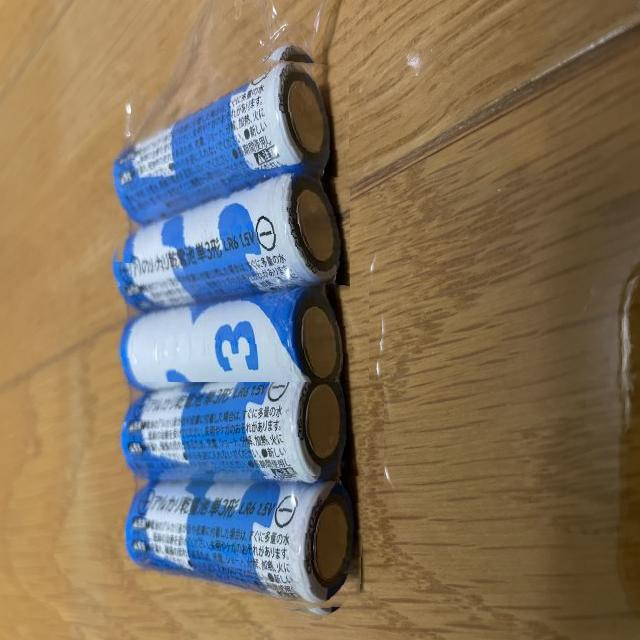battery: (112, 44, 349, 212), (107, 158, 350, 316), (110, 261, 370, 396), (124, 476, 365, 620), (106, 382, 384, 504)
